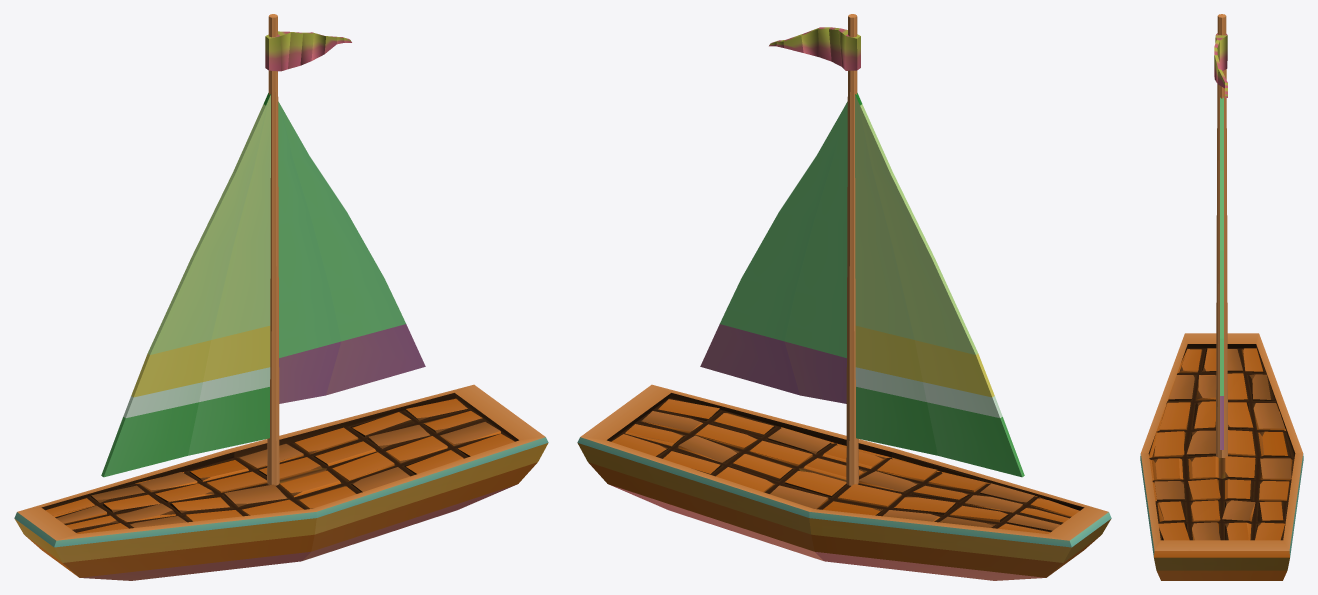
Rendered from SailBoat.fbx.
3 views of the same model, side by side, from view 1: azimuth 30°, elevation 25°; view 2: azimuth 150°, elevation 25°; view 3: azimuth 270°, elevation 25° (orthographic). The views are drawn at different scales.
Visible parts, largest first — view 1: Cube_0; view 2: Cube_0; view 3: Cube_0.
Part boxes in pixels (<box>): Cube_0: <box>14,14,548,580</box>; Cube_0: <box>577,14,1111,580</box>; Cube_0: <box>1140,14,1303,580</box>.
Size of the model in its own units: 793 by 832 by 249.
